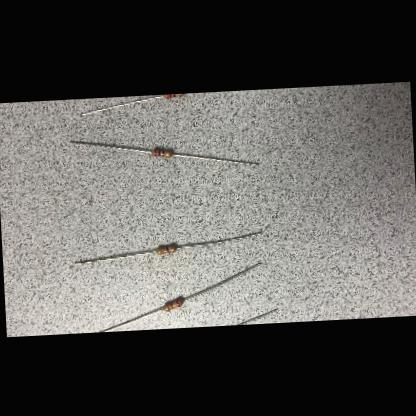resistor: (162, 296, 184, 310), (156, 244, 176, 253), (152, 148, 172, 157), (162, 92, 184, 97)
wire: (182, 262, 262, 301), (172, 147, 258, 168), (82, 94, 164, 114), (69, 135, 150, 155), (98, 306, 164, 330), (176, 232, 262, 248), (74, 249, 156, 263), (235, 308, 278, 324)
